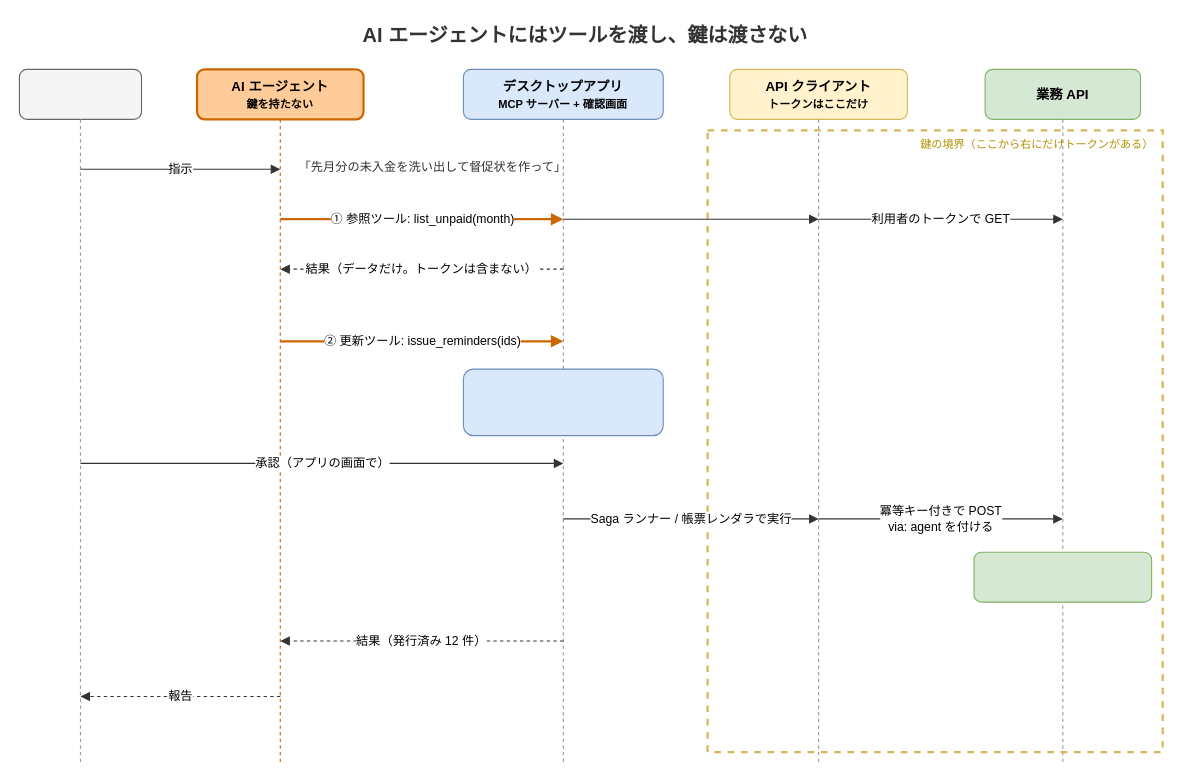
Image size: 1183x784. Some labels were removed from this diagram. Here are the shapes that lost their labels. From the top down, the centre of each, then its label:
At pixel 80 93: "利用者".
At pixel 562 402: "確認画面 「督促状を 12 件発行します」 対象一覧と件数を表示".
At pixel 1062 576: "利用者の権限で認可を検査 監査ログに記録".
